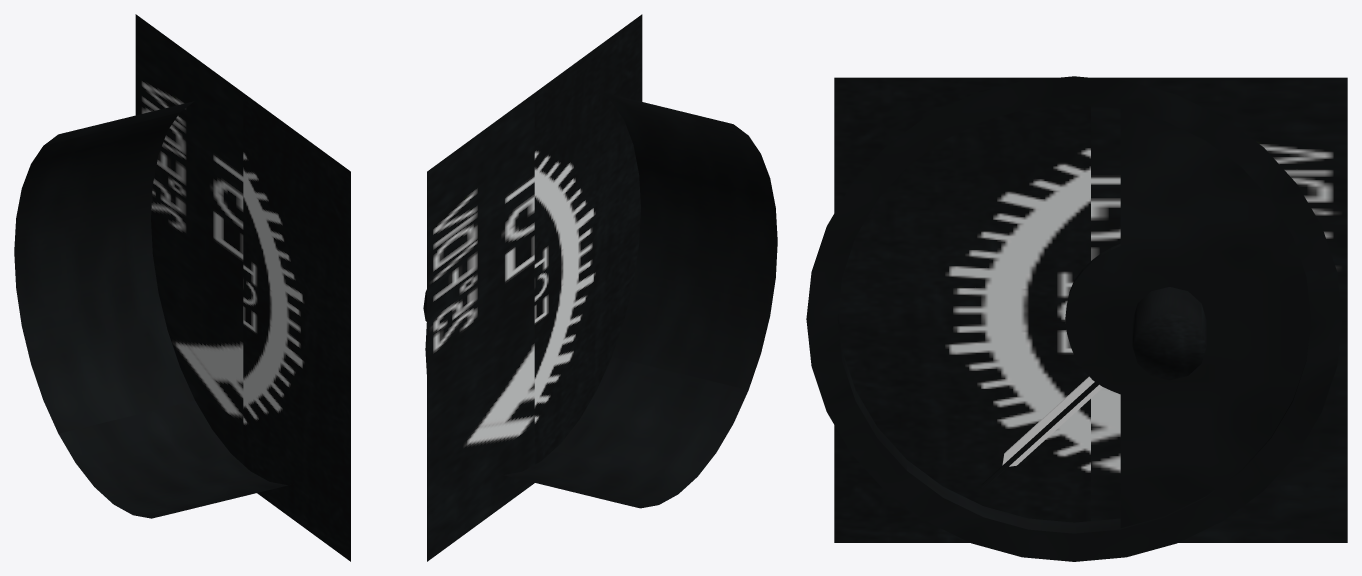
The model's file is egt.gltf.
The picture shows the model from 3 angles, left to right: view 1: azimuth 30°, elevation 25°; view 2: azimuth 150°, elevation 25°; view 3: azimuth 270°, elevation 25°; orthographic projection. The views are drawn at different scales.
Parts seen in each view (by area): view 1: Face, Case; view 2: Face, Case; view 3: Face, Front, Case, Knob, Needle, Bug.
Part boxes in pixels (<box>): Face: <box>135,14,350,561</box>; Case: <box>14,101,287,518</box>; Face: <box>427,14,642,561</box>; Case: <box>502,91,777,508</box>; Face: <box>834,77,1347,542</box>; Front: <box>1065,109,1310,527</box>; Case: <box>806,76,1342,561</box>; Knob: <box>1132,287,1206,380</box>; Needle: <box>1002,376,1103,466</box>; Bug: <box>981,382,1098,488</box>.
Size of the model in its own units: 0.0267 by 0.0522 by 0.0527.
Materials: 2 (1 with a texture image).
